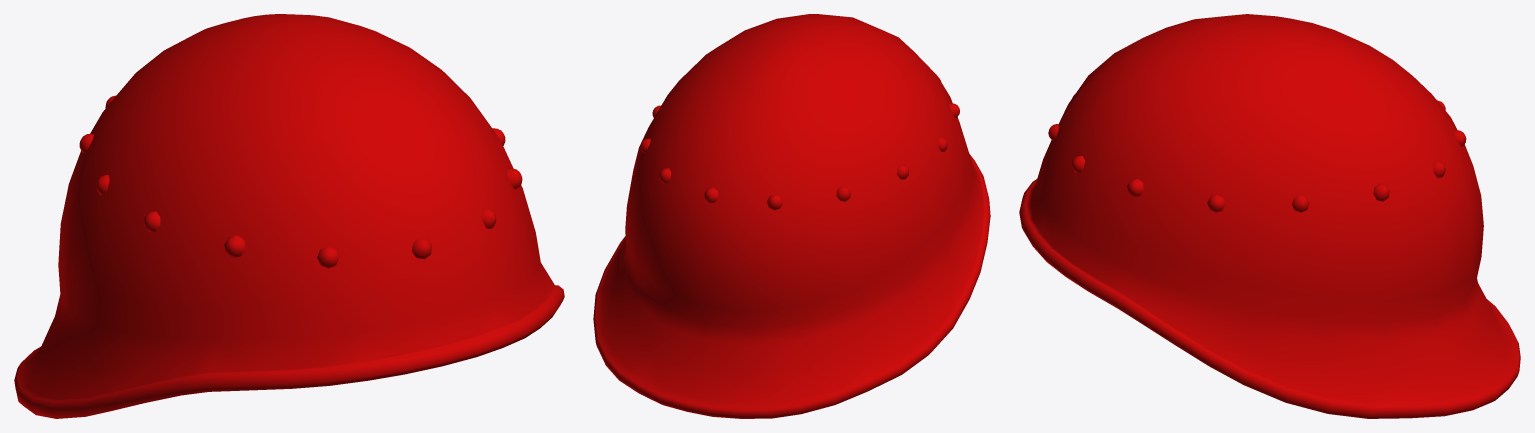
The model's file is HELMET006.FBX.
3 renders of one model, left to right at view 1: azimuth 30°, elevation 25°; view 2: azimuth 150°, elevation 25°; view 3: azimuth 270°, elevation 25°, orthographic. The views are drawn at different scales.
Parts seen in each view (by area): view 1: Helmet006, Helmet006_Studs; view 2: Helmet006, Helmet006_Studs; view 3: Helmet006, Helmet006_Studs.
Boxes of the visible parts, x1,y1,x2,y2 form: Helmet006: [14, 14, 564, 418]; Helmet006_Studs: [79, 95, 522, 268]; Helmet006: [593, 14, 990, 418]; Helmet006_Studs: [640, 77, 959, 210]; Helmet006: [1019, 14, 1520, 418]; Helmet006_Studs: [1048, 94, 1466, 212].
Size of the model in its own units: 0.2173 by 0.1835 by 0.2483.
